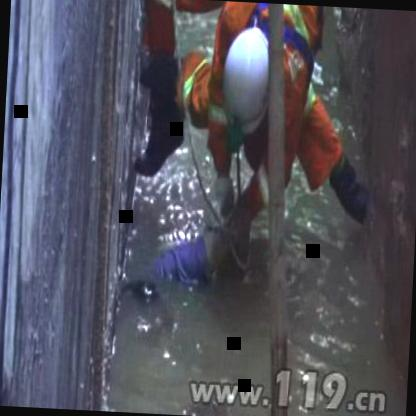helmet: (222, 22, 280, 136)
